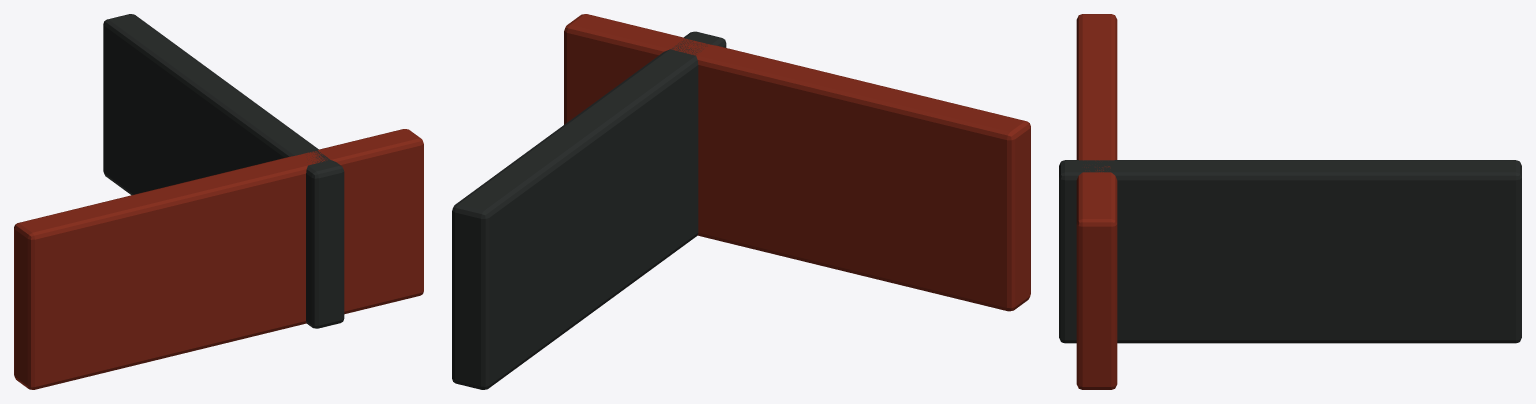
Rendered from shield_barricade_corner_LOD2.glb.
3 views of the same model, side by side, from view 1: azimuth 30°, elevation 25°; view 2: azimuth 150°, elevation 25°; view 3: azimuth 270°, elevation 25° (orthographic). The views are drawn at different scales.
Visible parts, largest first — view 1: LOD2_CornerX, LOD2_CornerY; view 2: LOD2_CornerX, LOD2_CornerY; view 3: LOD2_CornerY, LOD2_CornerX.
Boxes of the visible parts, x1,y1,x2,y2 form: LOD2_CornerX: (14,129,423,389); LOD2_CornerY: (103,14,344,328); LOD2_CornerX: (564,14,1030,311); LOD2_CornerY: (452,31,726,389); LOD2_CornerY: (1059,160,1521,343); LOD2_CornerX: (1076,14,1117,389).
Bounding box in the file's own units: 2.95 × 1.12 × 2.75.
